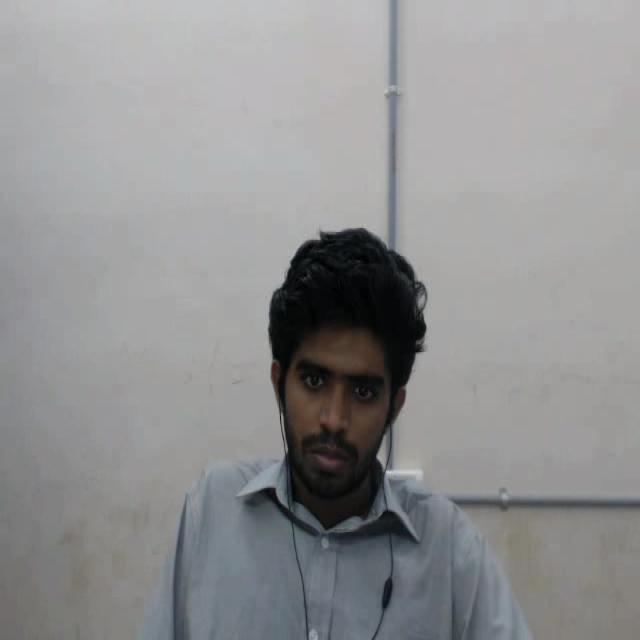Engaged: (262, 205, 453, 548)
